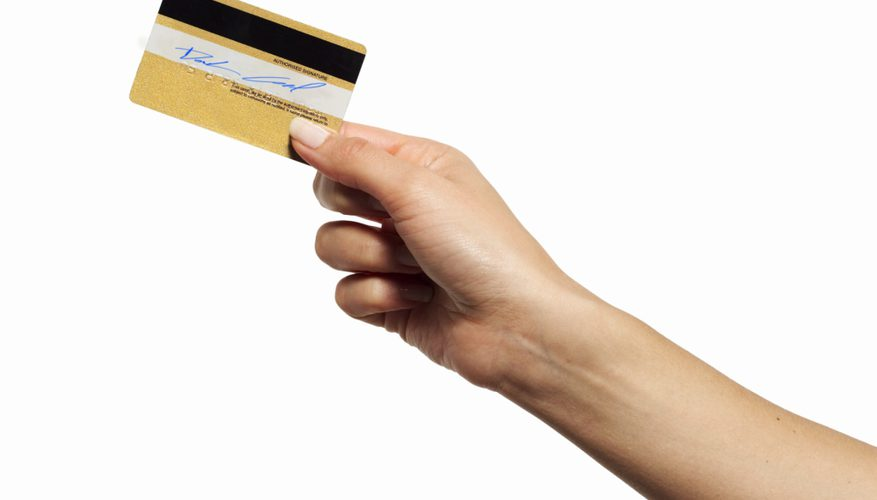tarjeta: (127, 1, 368, 166)
